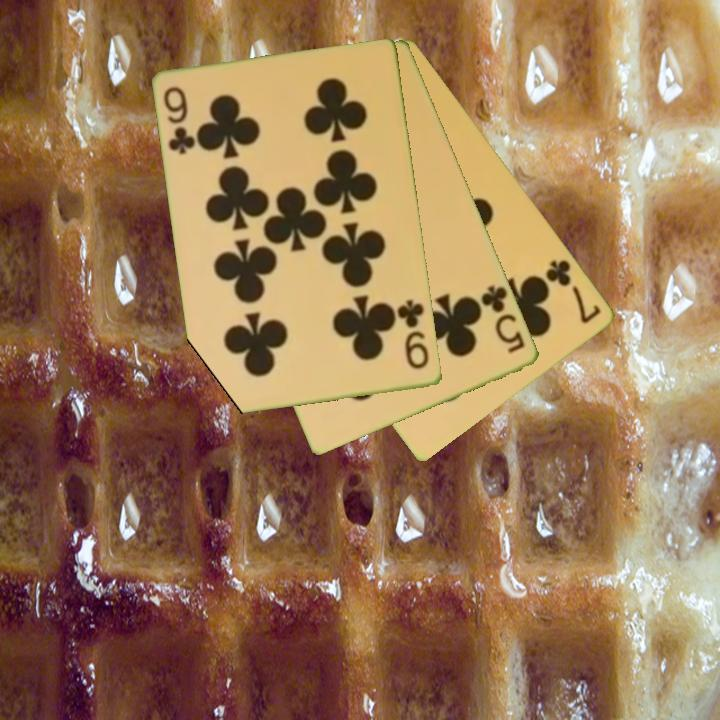5c: (477, 281, 528, 357)
7c: (542, 256, 604, 327)
9c: (394, 296, 432, 373), (160, 83, 199, 158)
